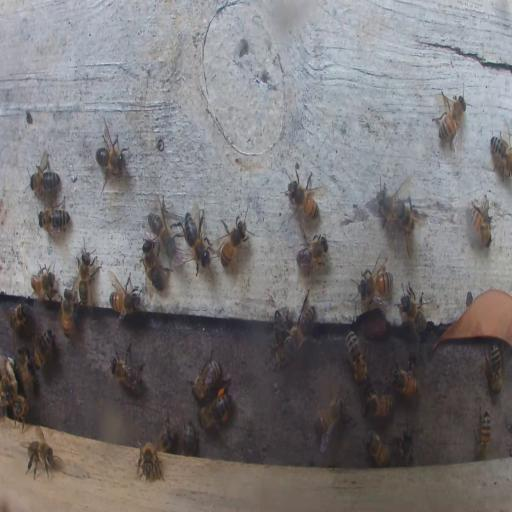bee: (380, 188, 417, 248), (214, 212, 252, 270), (94, 124, 128, 187), (311, 391, 345, 453), (434, 90, 468, 151), (180, 210, 212, 268), (284, 172, 321, 220), (397, 284, 430, 336), (286, 296, 316, 353), (269, 308, 296, 370), (109, 348, 144, 394), (200, 385, 232, 433), (26, 436, 60, 481), (76, 240, 98, 309), (148, 204, 174, 259), (345, 330, 369, 387), (110, 275, 142, 317), (192, 355, 222, 399), (142, 240, 166, 292), (356, 266, 392, 300), (468, 198, 492, 248), (28, 156, 59, 194), (296, 236, 328, 271), (137, 440, 163, 483), (490, 130, 512, 180), (16, 344, 37, 396), (38, 202, 71, 234), (392, 360, 419, 398), (364, 386, 394, 420), (474, 405, 492, 457), (364, 429, 390, 465), (30, 266, 56, 300), (33, 328, 54, 369), (60, 288, 76, 341), (487, 344, 503, 392), (394, 427, 414, 465), (9, 299, 33, 329), (2, 358, 16, 404), (159, 415, 174, 454), (11, 396, 29, 424), (181, 419, 196, 452)
